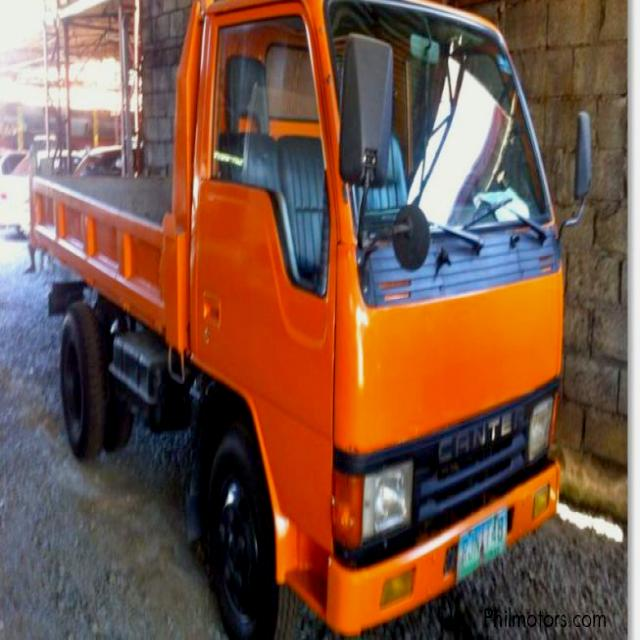truck: (28, 1, 591, 628)
